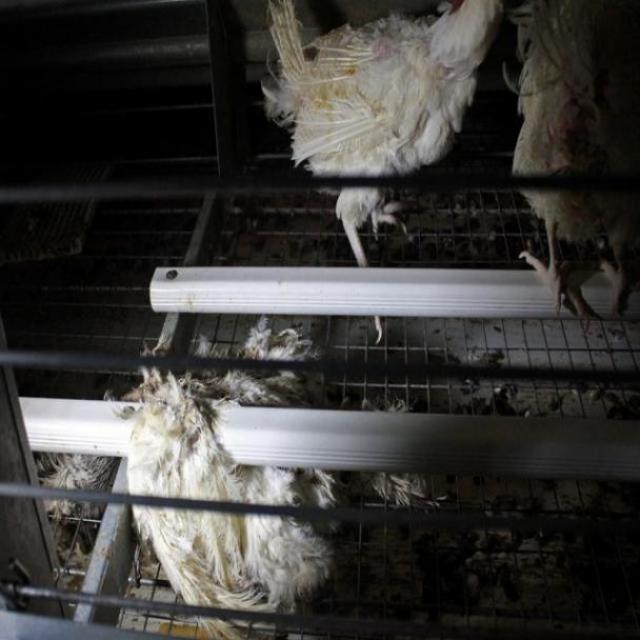Chicken: (124, 362, 359, 640), (253, 1, 500, 203), (504, 0, 640, 335)
